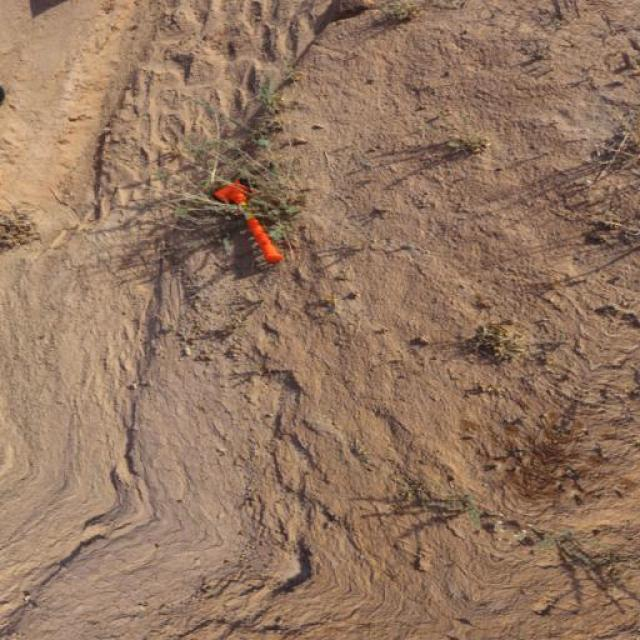mallet: (214, 179, 286, 265)
